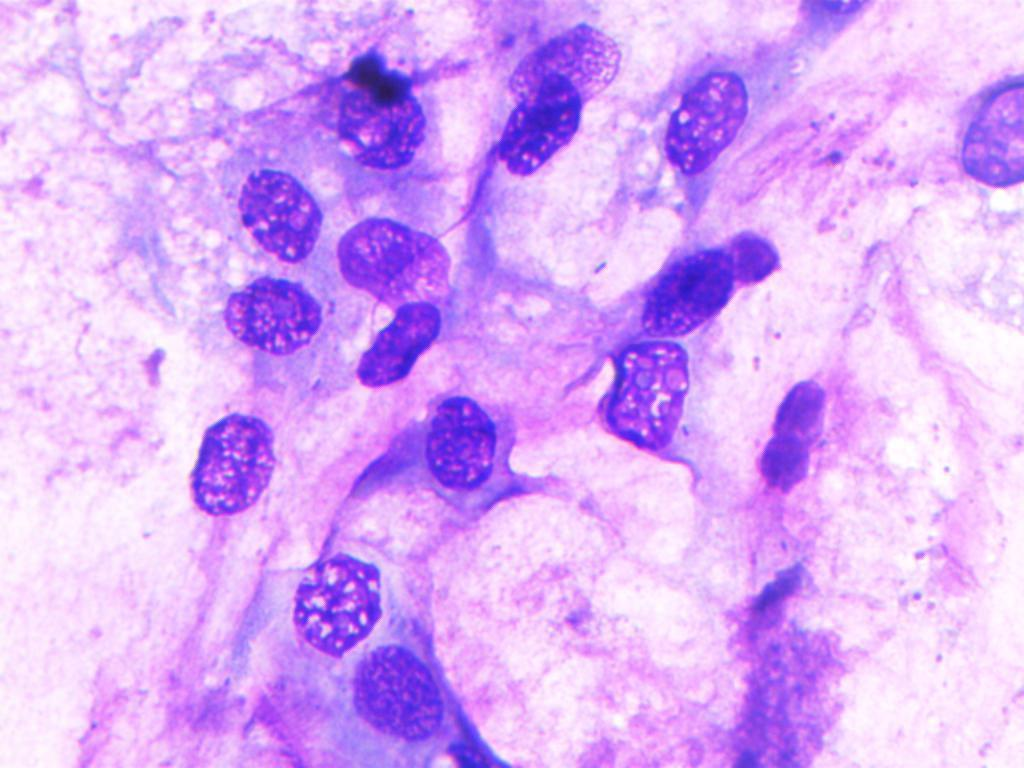epithelial: (150, 365, 330, 546), (630, 228, 783, 331), (653, 55, 753, 203), (653, 61, 762, 188), (321, 58, 438, 175), (333, 210, 460, 313), (281, 535, 394, 650), (604, 328, 702, 456), (347, 646, 462, 755), (215, 163, 321, 272), (492, 73, 594, 177), (211, 269, 332, 354), (496, 17, 627, 94), (958, 50, 1024, 198), (414, 390, 504, 495), (761, 375, 830, 508), (352, 297, 457, 383)
